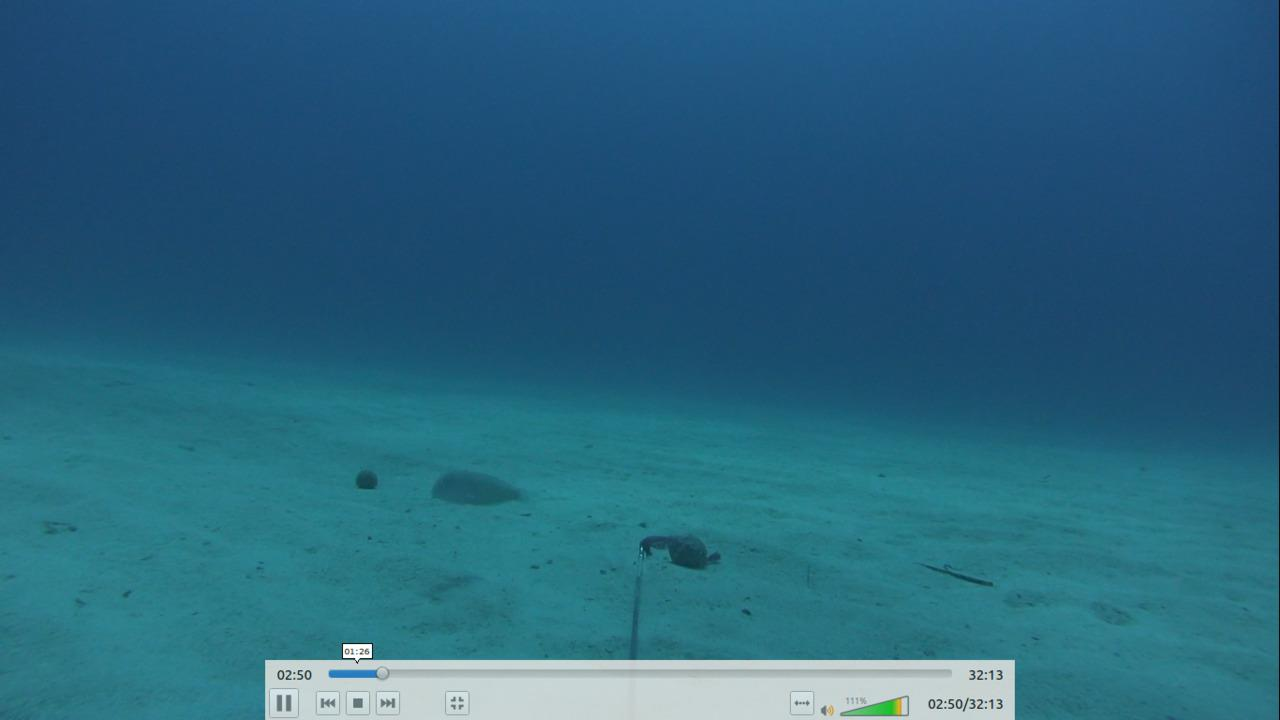raor: (425, 464, 530, 508)
